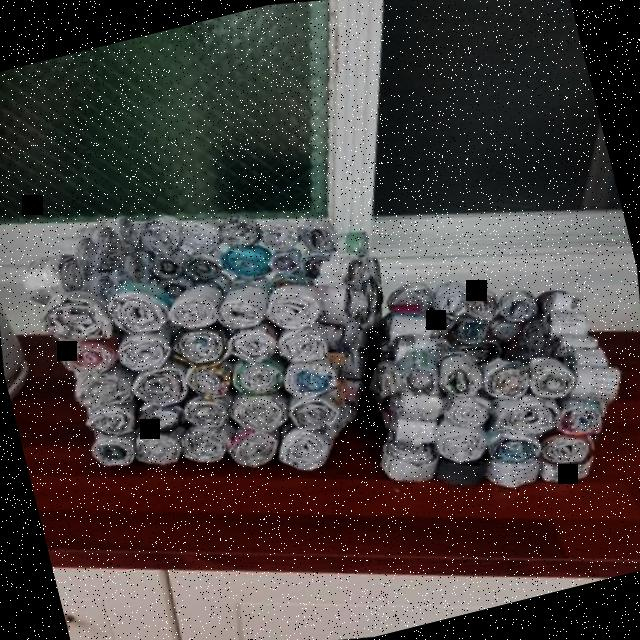reuseable_paper: (12, 169, 378, 513), (332, 240, 630, 518)
